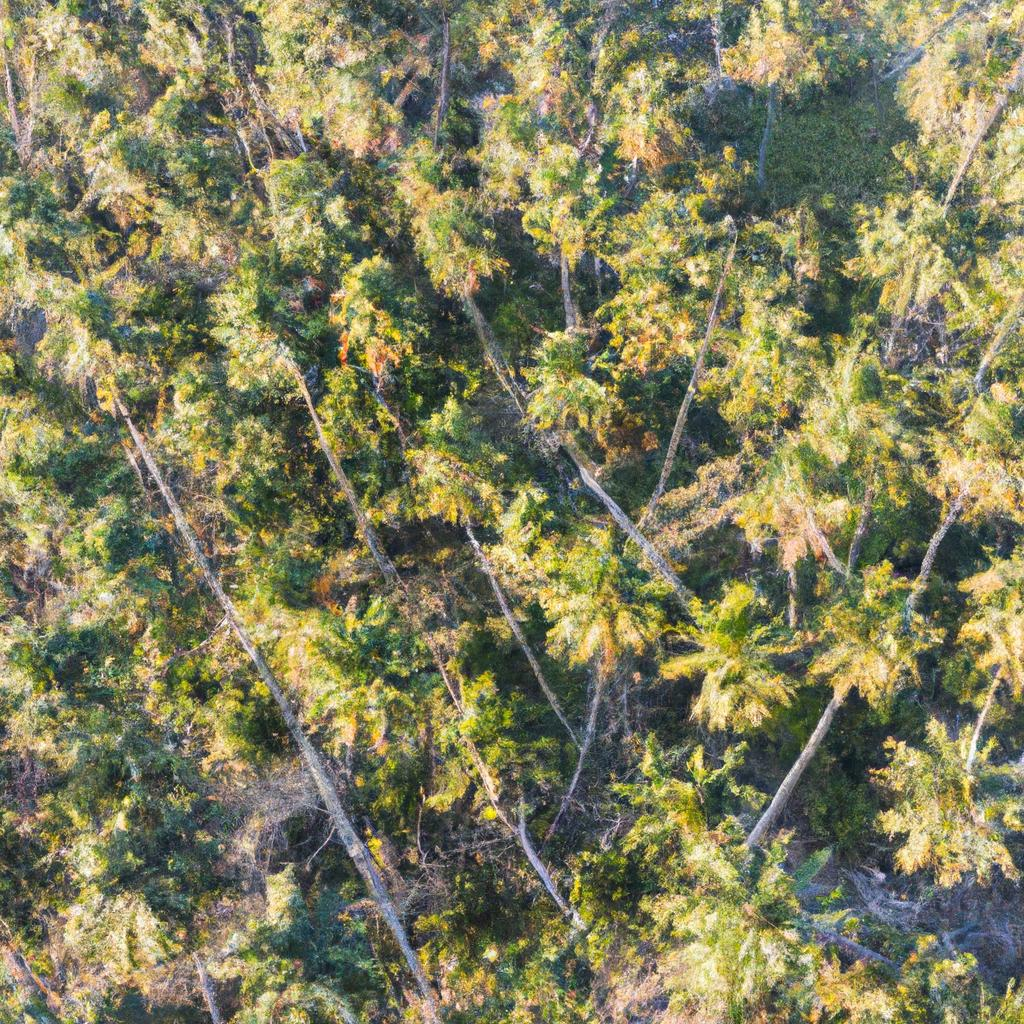coconut_tree: (813, 572, 940, 737), (524, 534, 666, 675), (678, 581, 799, 735)
